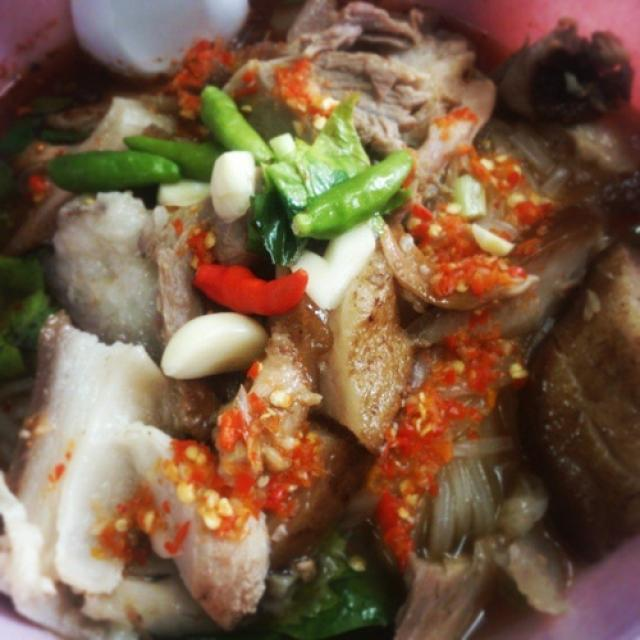猪肉菜式: (13, 28, 617, 618)
